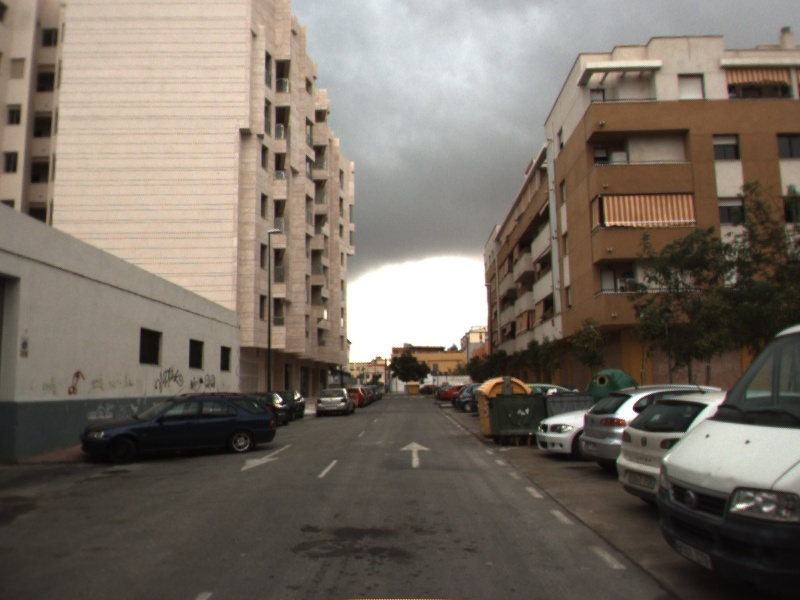STRAIGHT: (397, 439, 435, 469)
